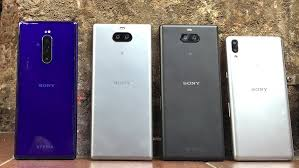sony: (13, 19, 81, 162), (88, 19, 156, 162), (157, 22, 225, 165), (225, 33, 290, 168)
